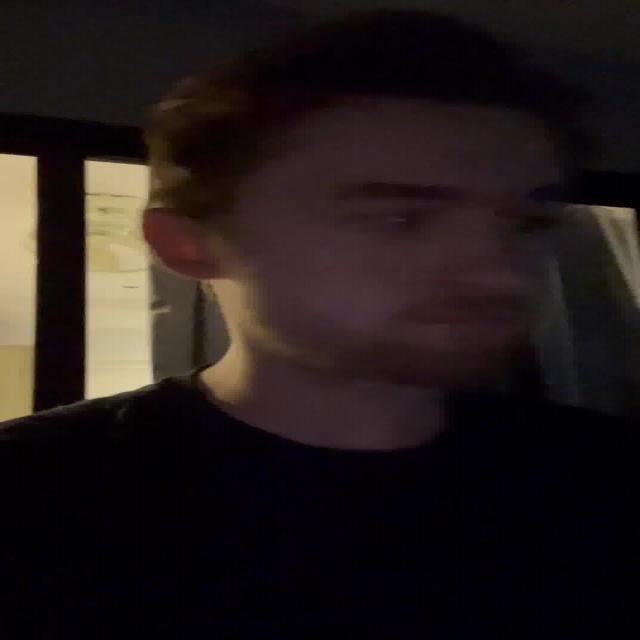earlobe: (139, 208, 224, 280)
